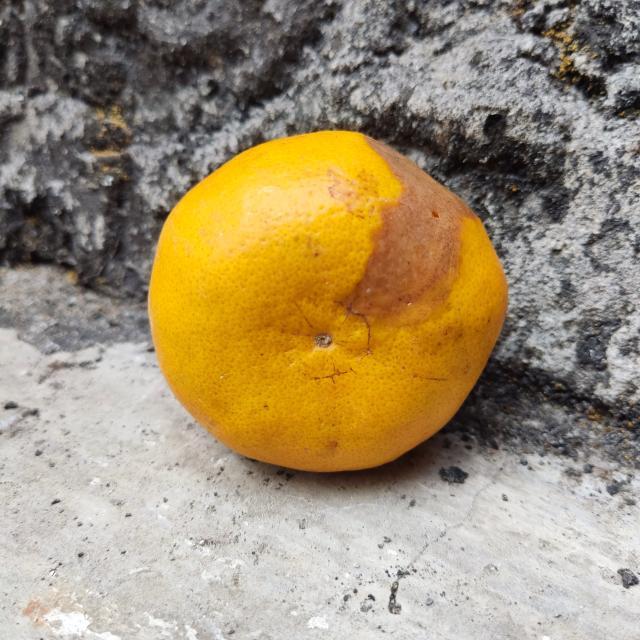orange: (145, 126, 510, 472)
